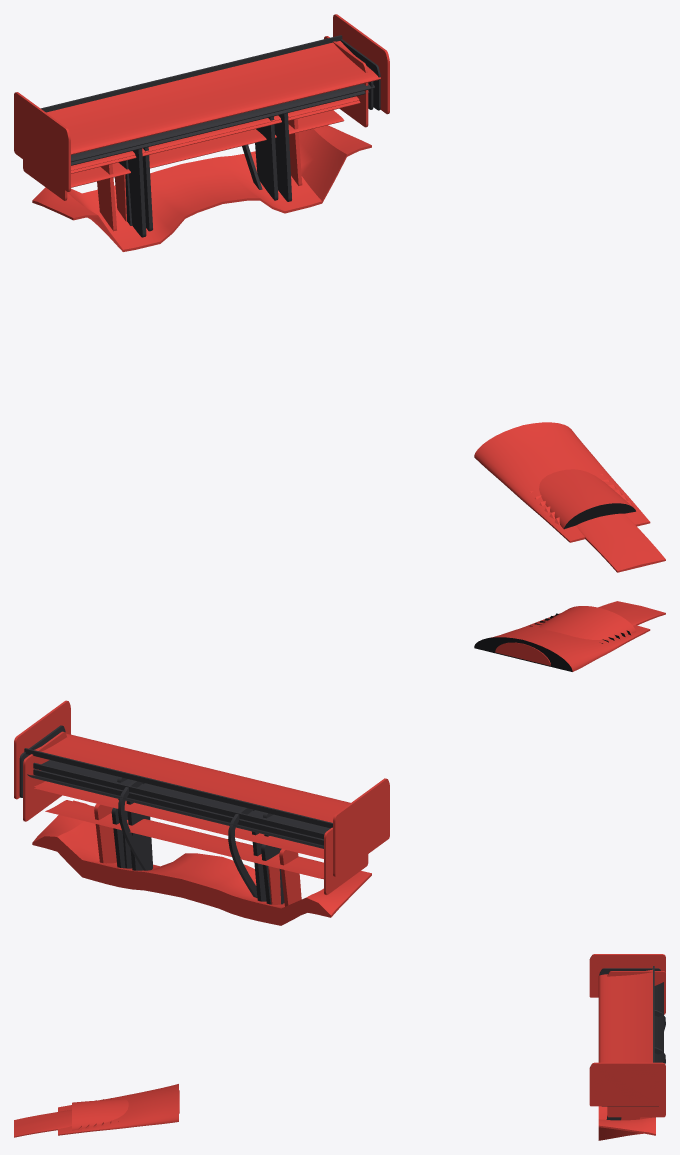
File: hypercar_kit.glb
The picture shows the model from 3 angles, top to bottom: view 1: azimuth 30°, elevation 25°; view 2: azimuth 150°, elevation 25°; view 3: azimuth 270°, elevation 25°; orthographic projection. The views are drawn at different scales.
Visible parts, largest first — view 1: Spoiler9, Spoiler3, HoodCowl, Spoiler6, HoodScoop, Spoiler4, Spoiler8, HoodBulge, Spoiler5, Spoiler7; view 2: Spoiler9, Spoiler3, Spoiler8, Spoiler6, Spoiler4, HoodCowl, Spoiler7, Spoiler5, HoodScoop, HoodBulge; view 3: Spoiler9, HoodCowl, Spoiler8, HoodScoop, Spoiler3, HoodBulge.
Boxes of the visible parts, x1,y1,x2,y2 form: Spoiler9: (14,14,389,237); Spoiler3: (32,125,371,251); HoodCowl: (474,422,650,542); Spoiler6: (71,39,380,231); HoodScoop: (539,469,635,529); Spoiler4: (71,110,344,221); Spoiler8: (23,36,368,225); HoodBulge: (576,513,665,572); Spoiler5: (36,100,360,231); Spoiler7: (71,81,373,189); Spoiler9: (14,700,389,903); Spoiler3: (32,800,371,925); Spoiler8: (23,731,368,904); Spoiler6: (19,725,330,901); Spoiler4: (45,800,323,904); HoodCowl: (474,613,650,671); Spoiler7: (33,769,323,897); Spoiler5: (34,779,358,906); HoodScoop: (539,606,635,639); HoodBulge: (495,601,665,665); Spoiler9: (589,954,665,1120); HoodCowl: (58,1084,178,1135); Spoiler8: (607,971,665,1117); HoodScoop: (72,1099,128,1130); Spoiler3: (598,1106,655,1140); HoodBulge: (14,1090,179,1137).
Size of the model in its own units: 1.76 by 0.9076 by 4.44.
